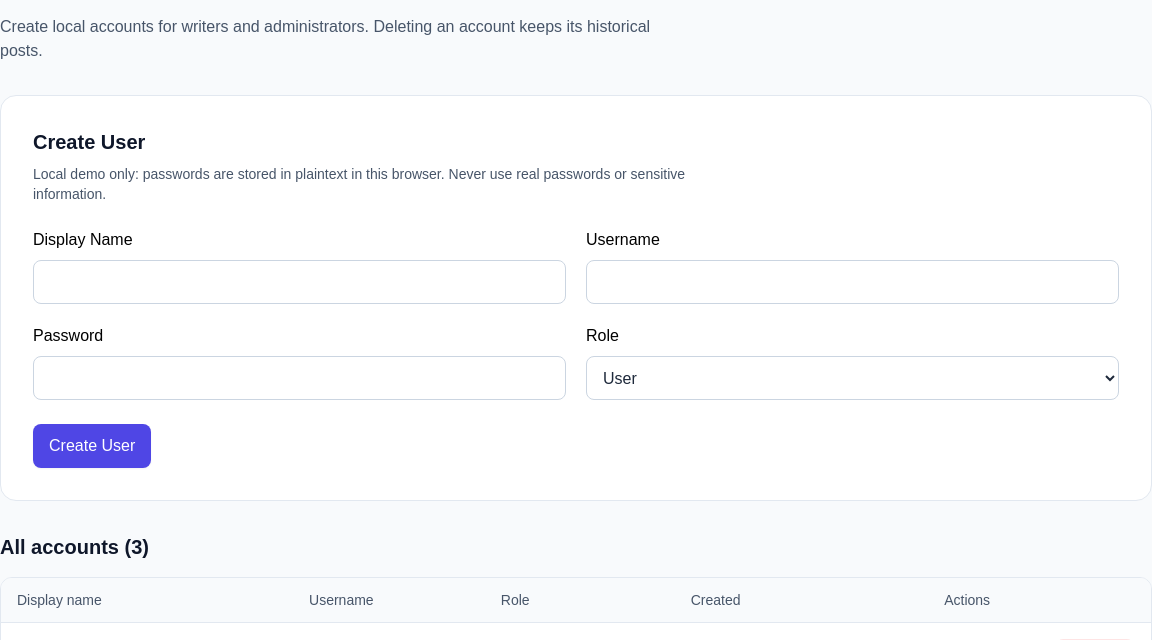
Test: creates and re-reads a persisted user with success and cleared form
The width and height of the screenshot is (1152, 640).
Type " New Writer " into the field labelled "Display Name" at (300, 282), box [33,260,566,304]
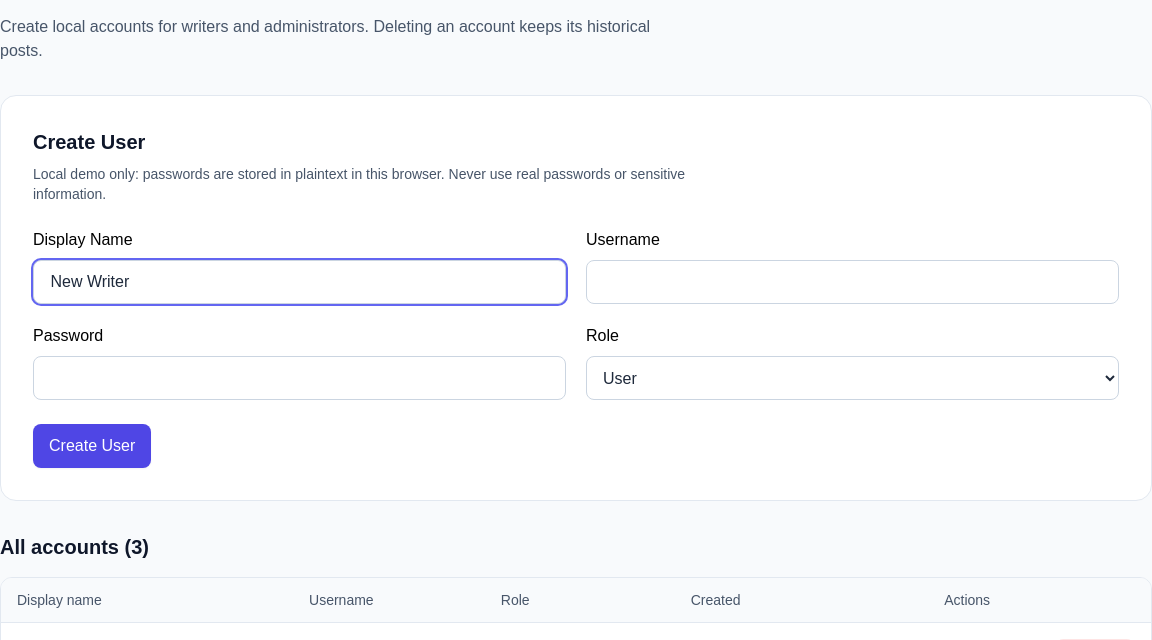
Type "new-writer" into the field labelled "Username" at (852, 282), box [586,260,1119,304]
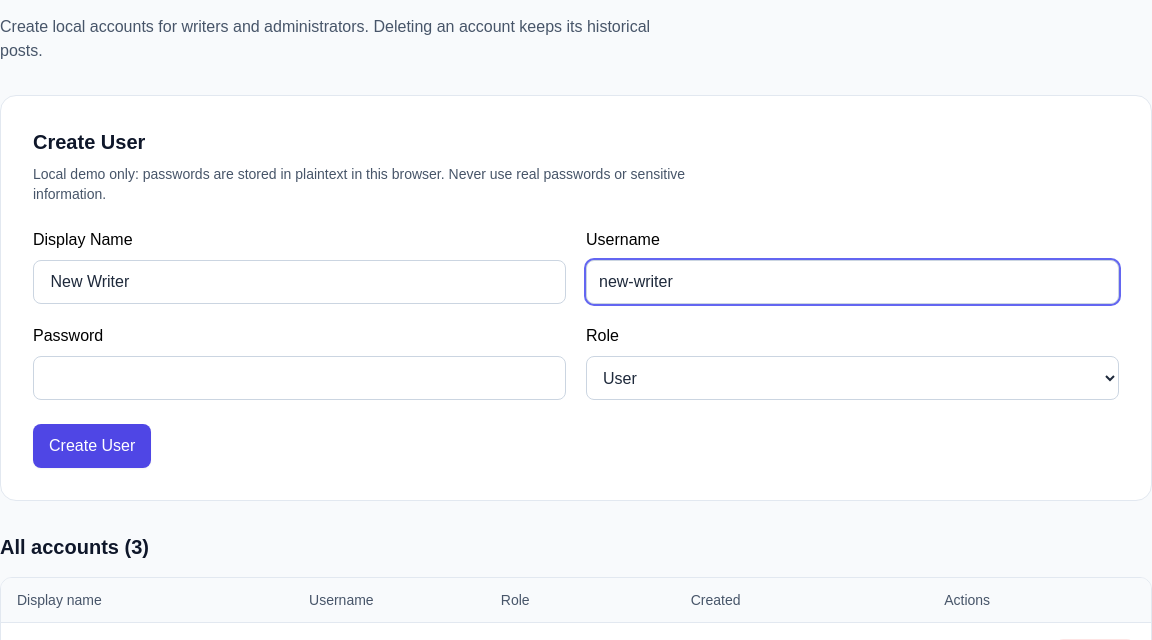
Type " demo " into the password field labelled "Password" at (300, 378), box [33,356,566,400]
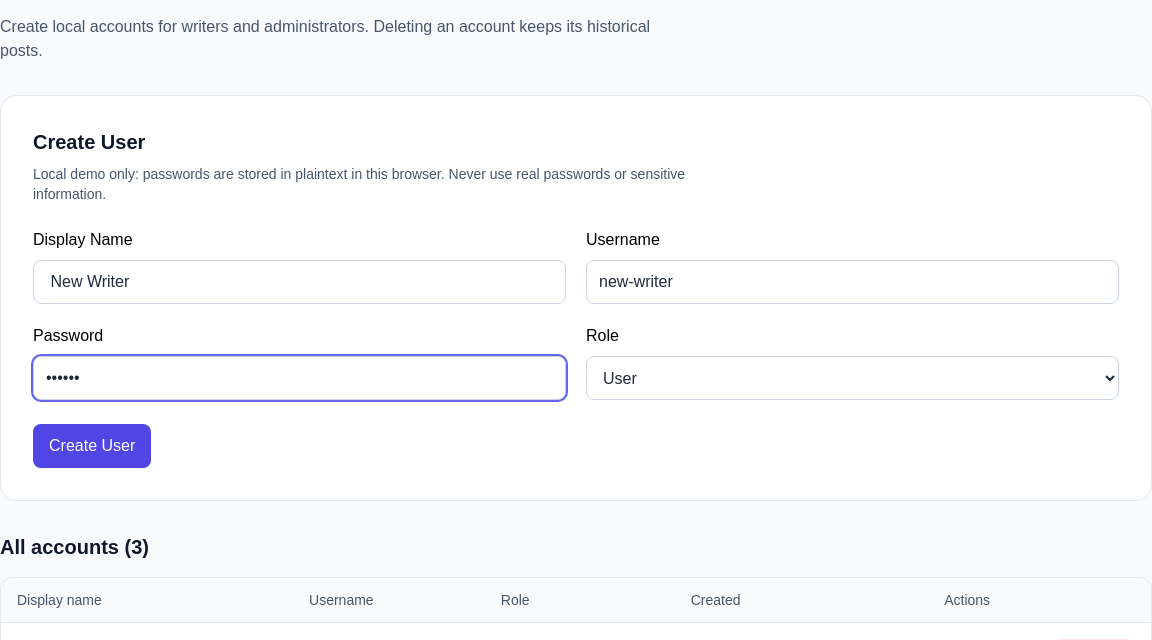
Select "User" in the dropdown labelled "Role" at (852, 378), box [586,356,1119,400]
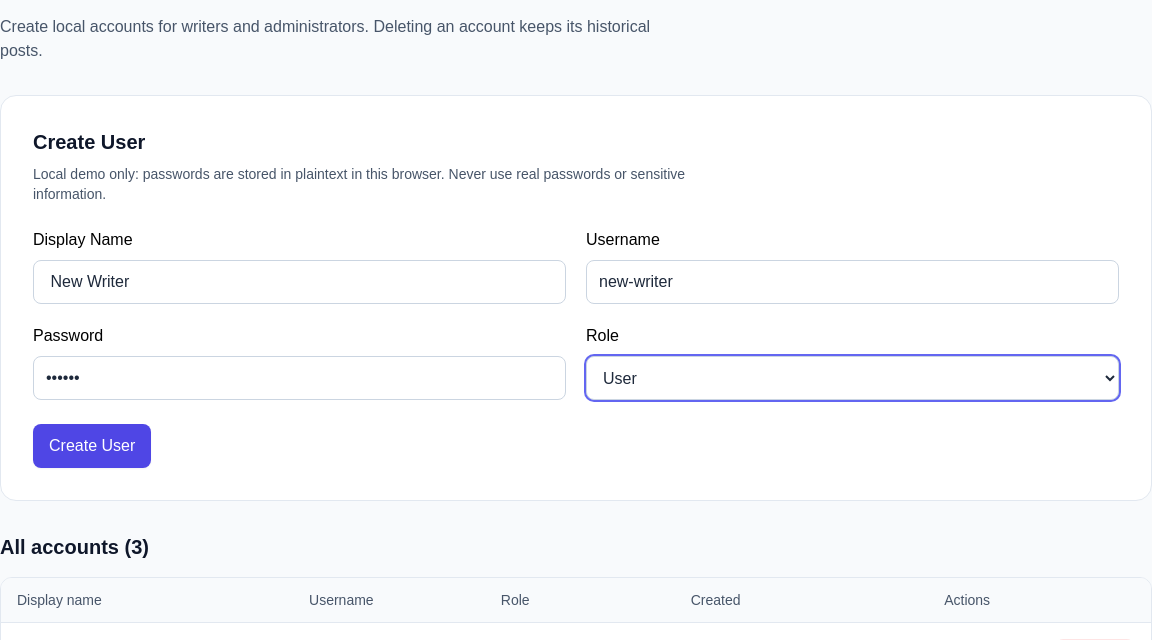
Click the button "Create User" at (92, 446), box [33,424,151,468]
(page scrolled)
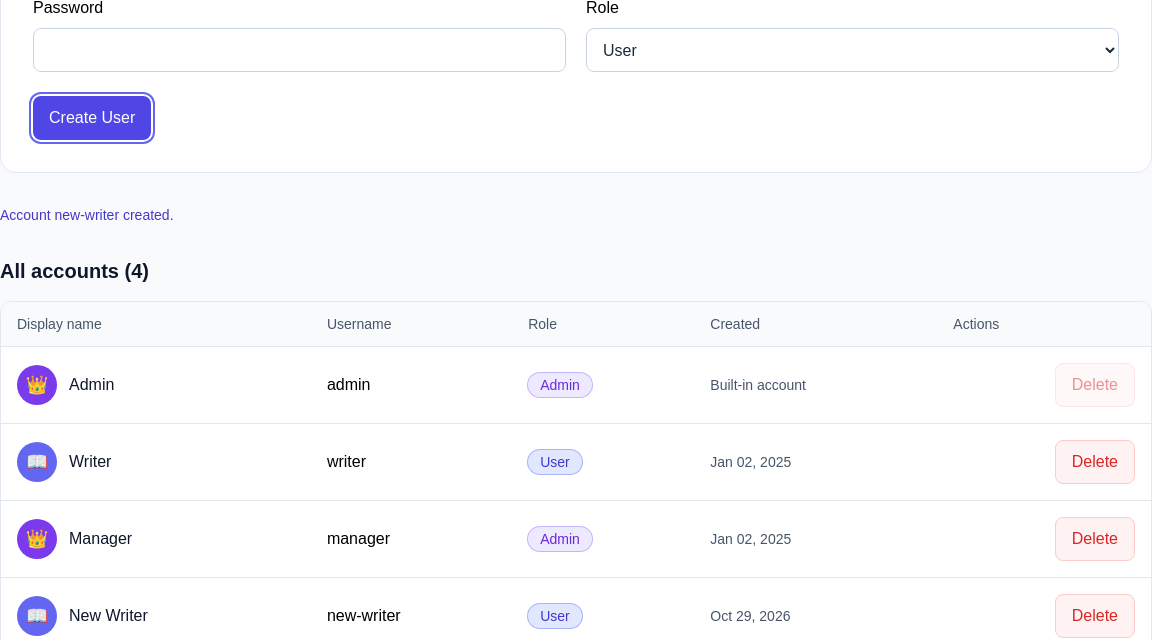
Check: the message reads "Account new-writer created.", box [0,207,174,223]
Check: the heading "All accounts (4)" is shown, box [0,260,149,282]
Check: the password field labelled "Password" is empty, box [33,28,566,72]
